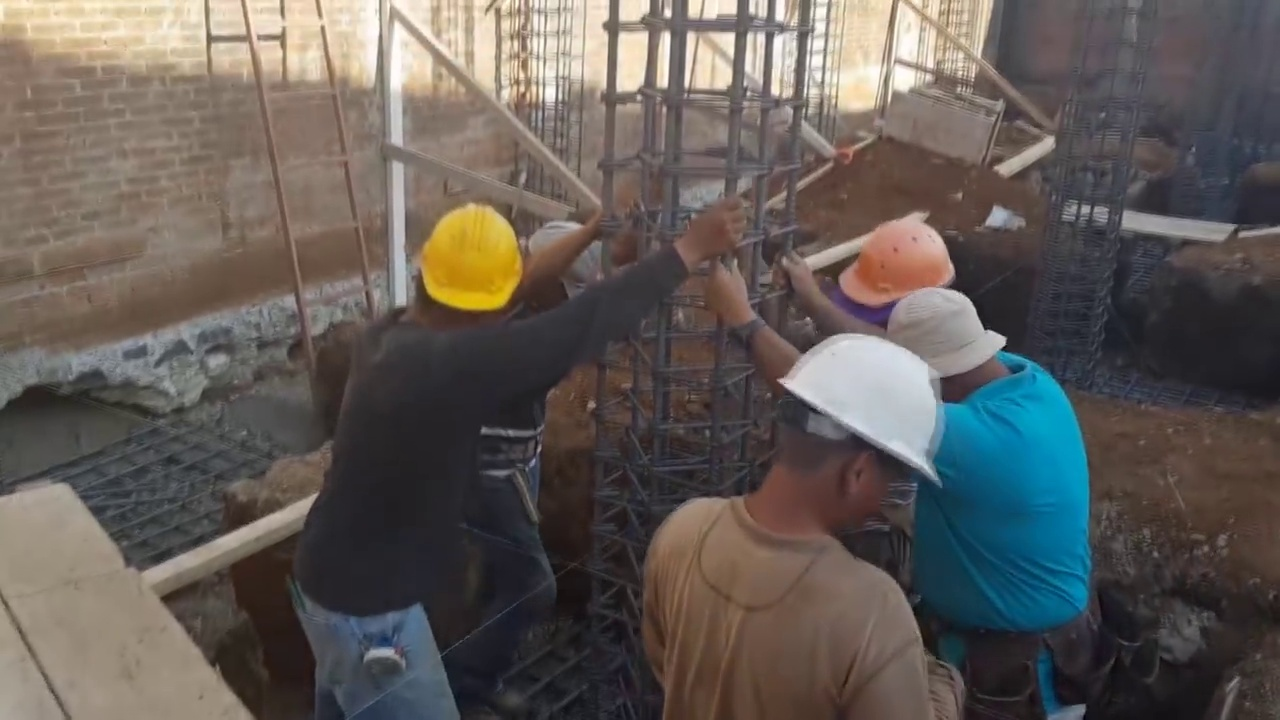helmet: (777, 337, 939, 471), (419, 203, 523, 314), (847, 217, 959, 311)
helmet-off: (880, 287, 1042, 424), (526, 217, 619, 306)
helmet-on: (730, 336, 945, 548), (386, 200, 540, 334)
person: (287, 175, 742, 700), (714, 251, 1093, 712), (642, 336, 950, 720), (460, 212, 620, 654)
